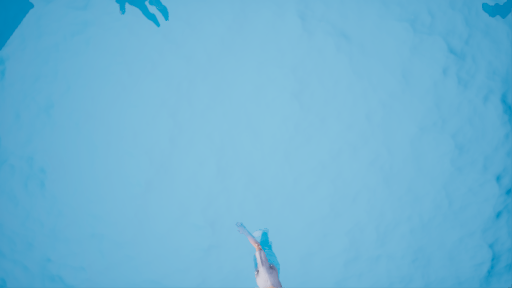person: (238, 224, 290, 288)
